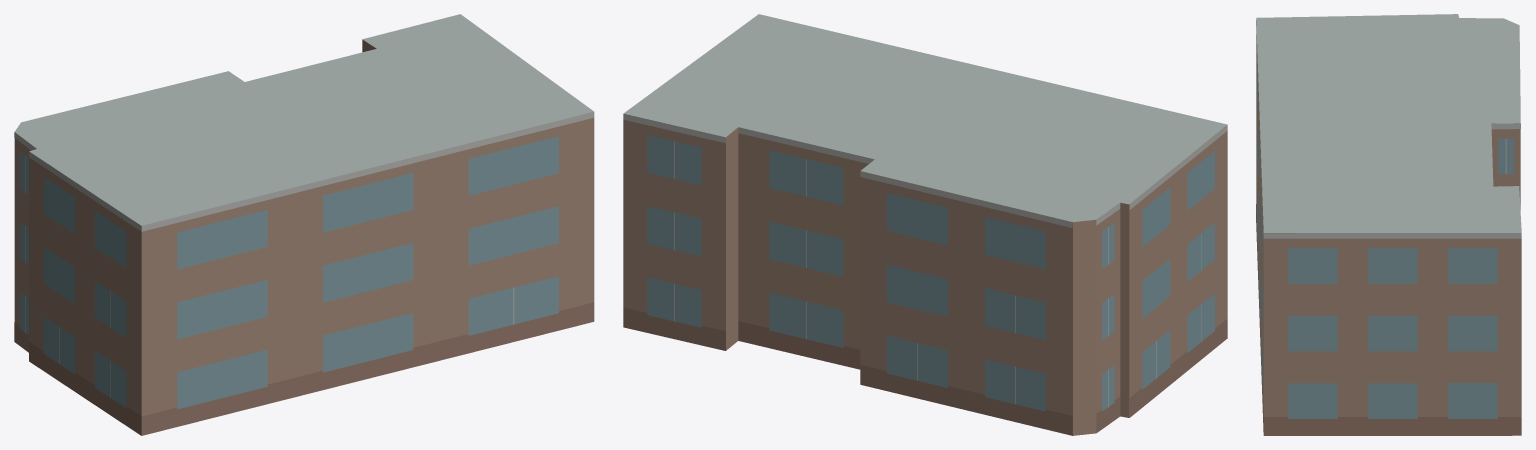
The model's file is survey-upis-32615267.glb.
3 views of the same model, side by side, from view 1: azimuth 30°, elevation 25°; view 2: azimuth 150°, elevation 25°; view 3: azimuth 270°, elevation 25° (orthographic). The views are drawn at different scales.
Parts seen in each view (by area): view 1: survey-upis-32615267.tmp; view 2: survey-upis-32615267.tmp; view 3: survey-upis-32615267.tmp.
Part boxes in pixels (box(x1,y1,x2,y2)): survey-upis-32615267.tmp: box(14, 14, 594, 435); survey-upis-32615267.tmp: box(623, 14, 1227, 435); survey-upis-32615267.tmp: box(1256, 14, 1521, 435).
Size of the model in its own units: 20.16 by 8.7 by 10.33.
